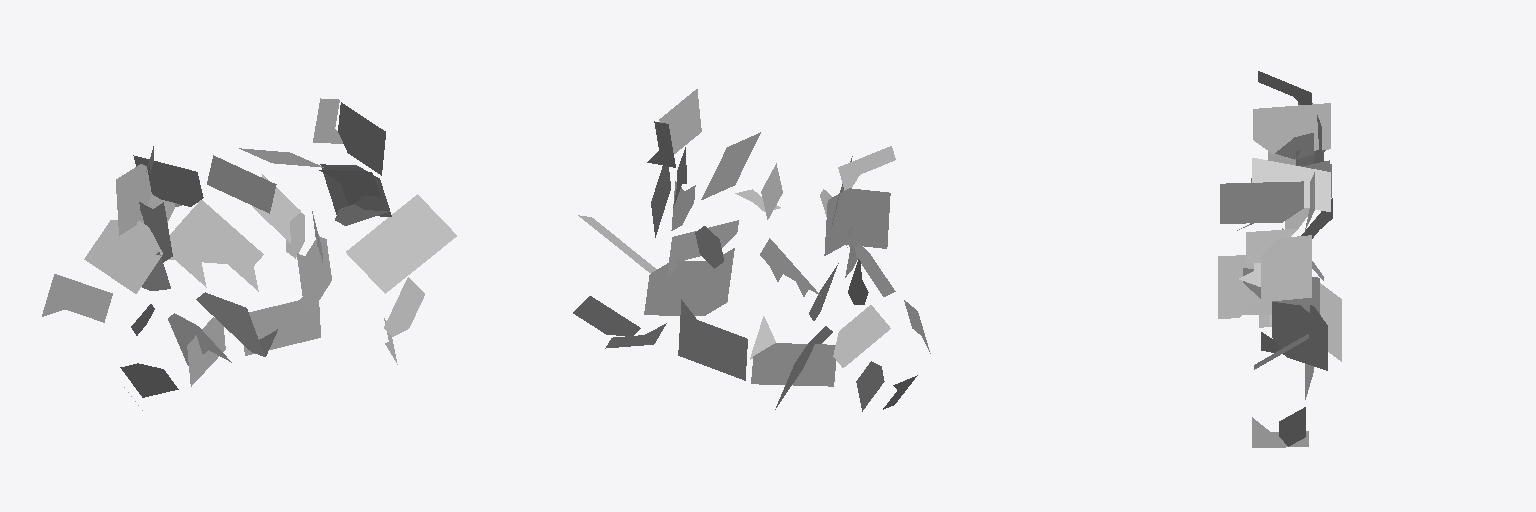
Rendered from warning0003.obj.
The picture shows the model from 3 angles: view 1: azimuth 30°, elevation 25°; view 2: azimuth 150°, elevation 25°; view 3: azimuth 270°, elevation 25°; orthographic projection.
Visible parts, largest first — view 1: warning; view 2: warning; view 3: warning.
Boxes of the visible parts, box(x1,y1,x2,y2) form: warning: box(42, 98, 456, 410); warning: box(573, 89, 930, 411); warning: box(1218, 71, 1341, 447).
Size of the model in its own units: 1.73 by 1.14 by 0.4893.